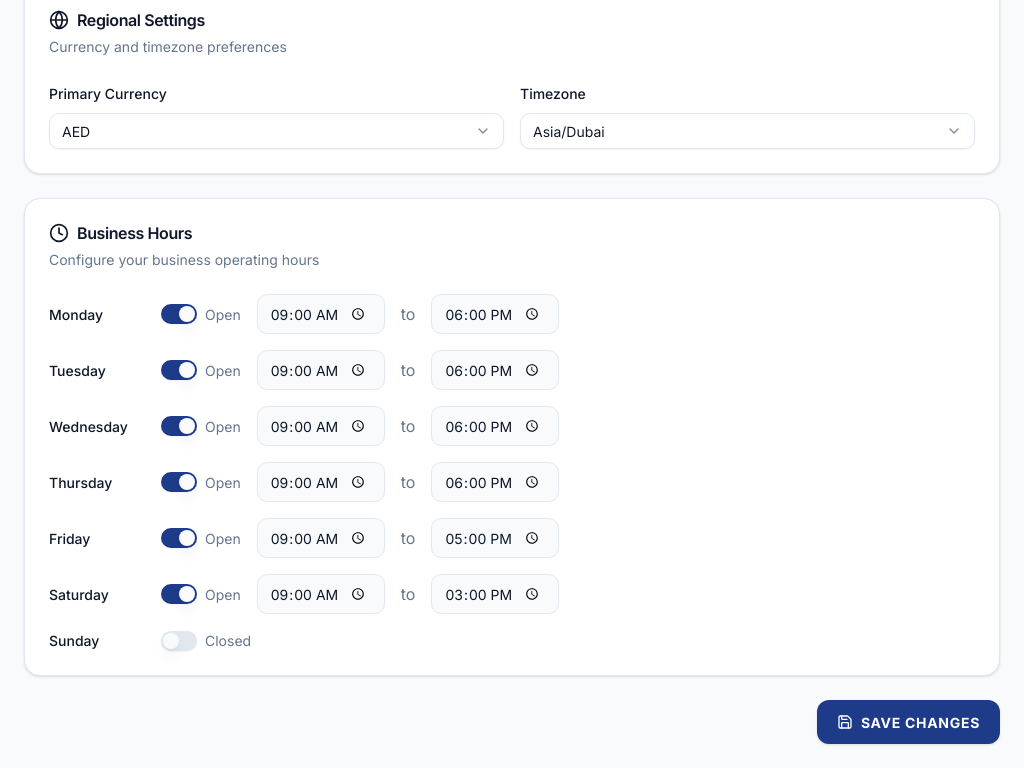
Test case: Company Settings Page › should handle save API errors
The image size is (1024, 768).
(page scrolled)
Click the button "Save Changes" at x=908, y=722, box [817,700,1000,744]
(page scrolled)
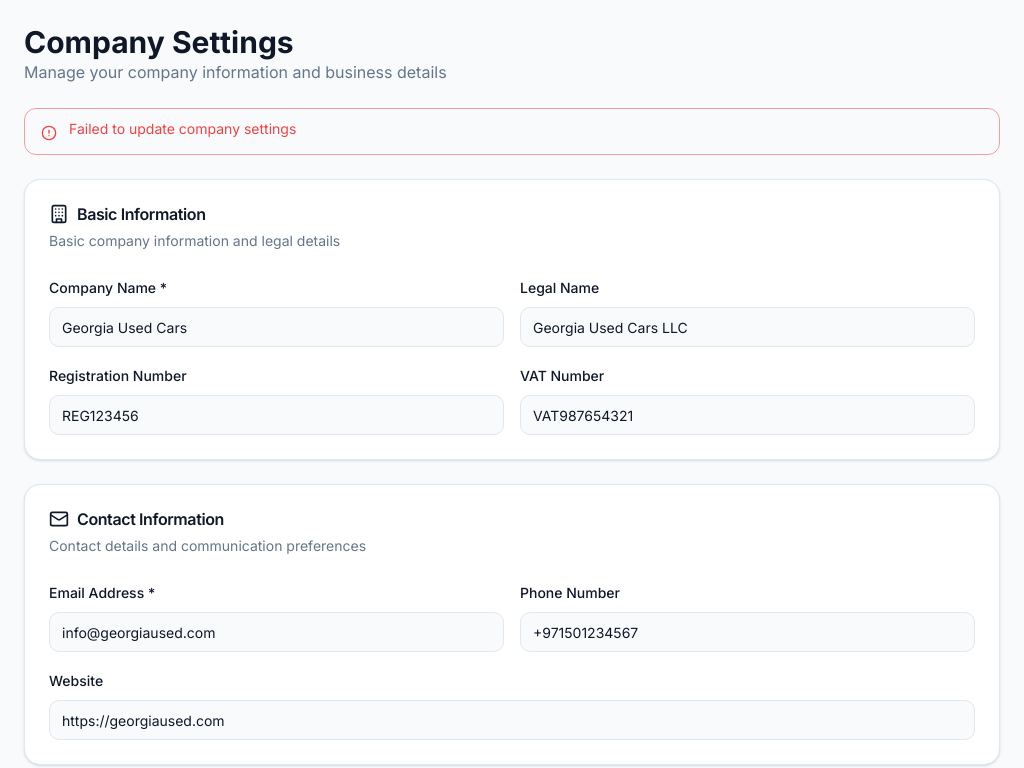
Expected: the text "Failed to update company settings" is shown, [69,120,296,137]
